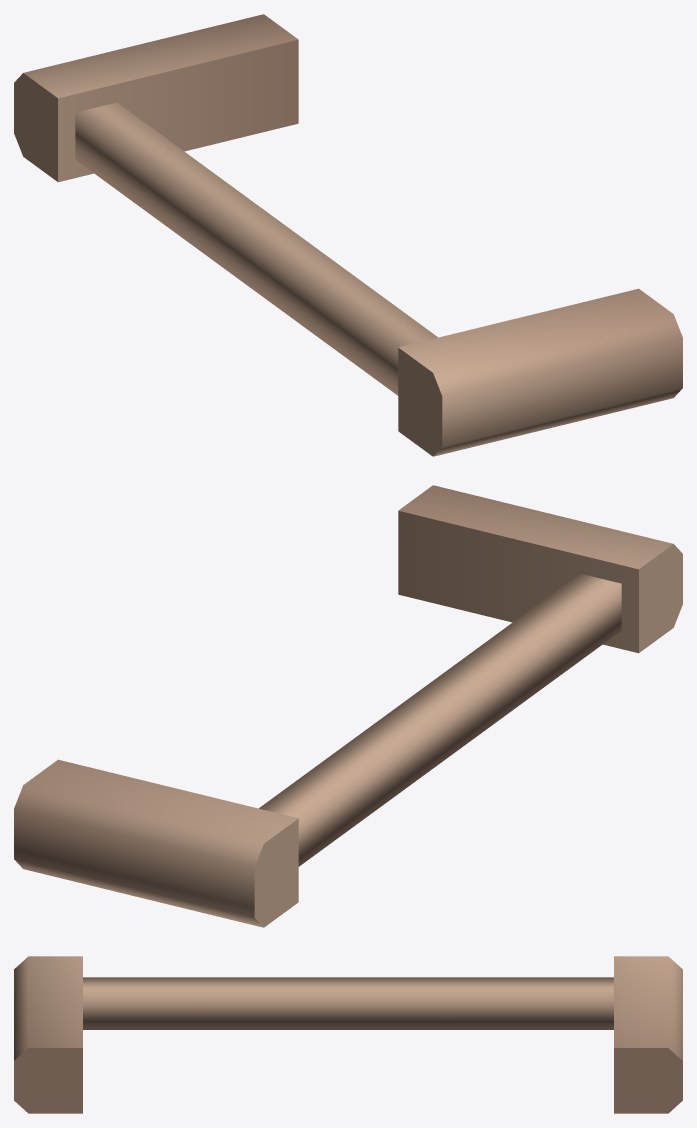
Rendered from towel-rack-small (%wall).glb.
The picture shows the model from 3 angles, top to bottom: view 1: azimuth 30°, elevation 25°; view 2: azimuth 150°, elevation 25°; view 3: azimuth 270°, elevation 25°; orthographic projection. The views are drawn at different scales.
Visible parts, largest first — view 1: towel-rack-small (%wall); view 2: towel-rack-small (%wall); view 3: towel-rack-small (%wall).
Part boxes in pixels (left/top/right/bottom): towel-rack-small (%wall): left=14, top=14, right=682, bottom=456; towel-rack-small (%wall): left=14, top=485, right=682, bottom=927; towel-rack-small (%wall): left=14, top=956, right=682, bottom=1113.
Size of the model in its own units: 0.15 by 0.05 by 0.4625.
